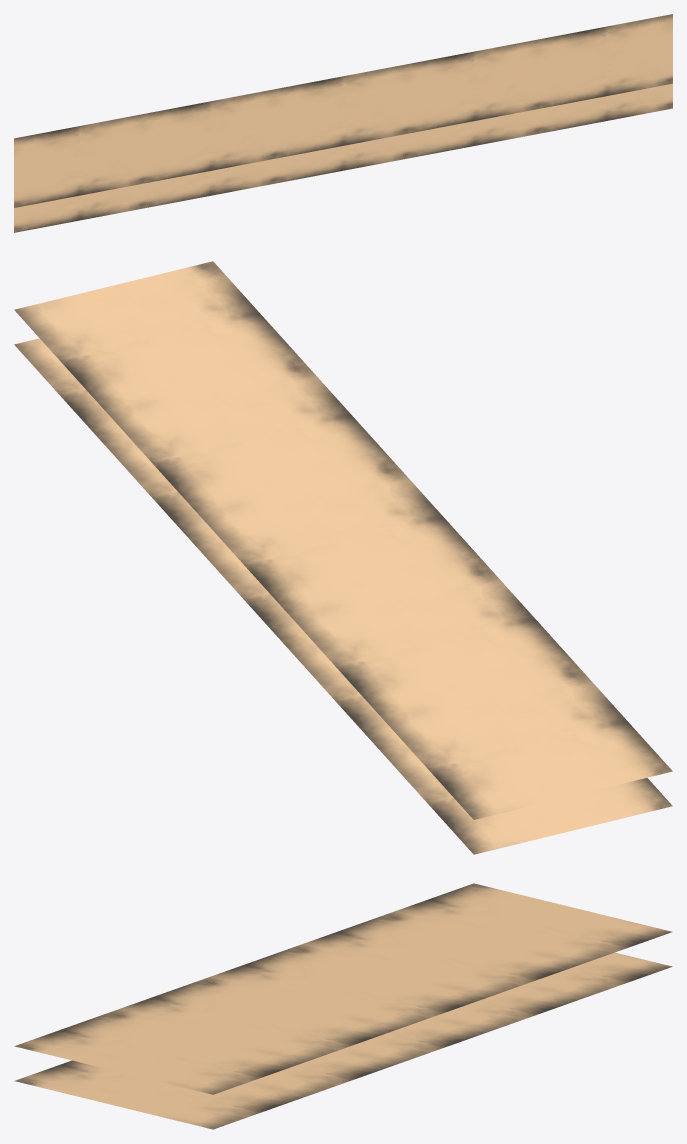
File: CourseSummer_Floor_4.fbx
The picture shows the model from 3 angles, top to bottom: view 1: azimuth 30°, elevation 25°; view 2: azimuth 150°, elevation 25°; view 3: azimuth 270°, elevation 25°; orthographic projection. The views are drawn at different scales.
Parts seen in each view (by area): view 1: polySurface350; view 2: polySurface350; view 3: polySurface350.
Part boxes in pixels (x1,y1,x2,y2): polySurface350: (14,14,672,232); polySurface350: (14,261,672,854); polySurface350: (14,883,672,1129).
Size of the model in its own units: 23.78 by 6 by 17.2.
Materials: 1 (1 with a texture image).
